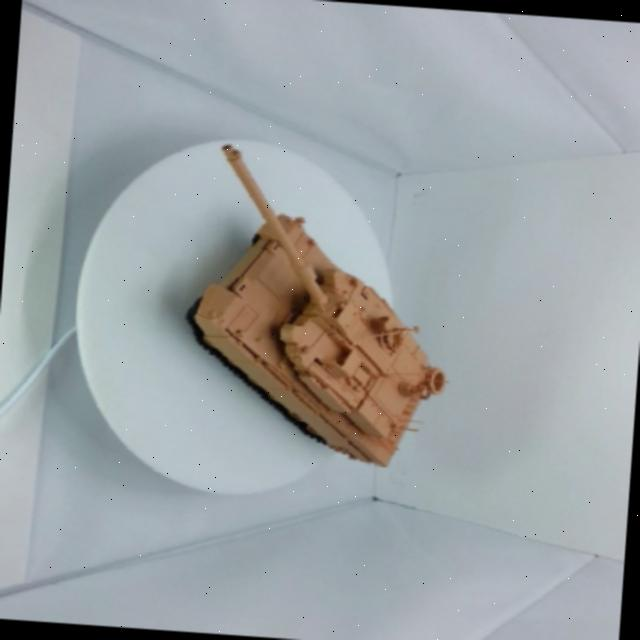korea tank: (149, 106, 484, 495)
